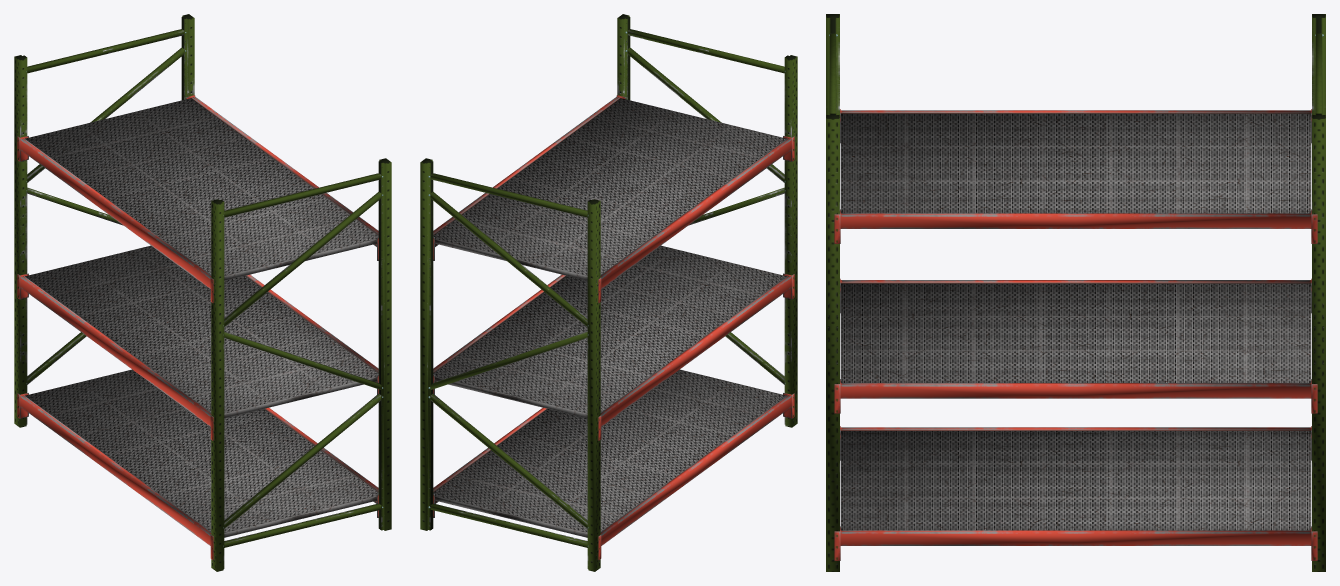
The model's file is shelf.dae.
3 views of the same model, side by side, from view 1: azimuth 30°, elevation 25°; view 2: azimuth 150°, elevation 25°; view 3: azimuth 270°, elevation 25° (orthographic). The views are drawn at different scales.
Parts seen in each view (by area): view 1: Realistic lowpoly rack; view 2: Realistic lowpoly rack; view 3: Realistic lowpoly rack.
Part boxes in pixels (x1,y1,x2,y2): Realistic lowpoly rack: (14,14,391,571); Realistic lowpoly rack: (420,14,797,571); Realistic lowpoly rack: (826,14,1325,571).
Bounding box in the file's own units: 1.25 × 2.5 × 2.5.
1 material, 1 textured.
